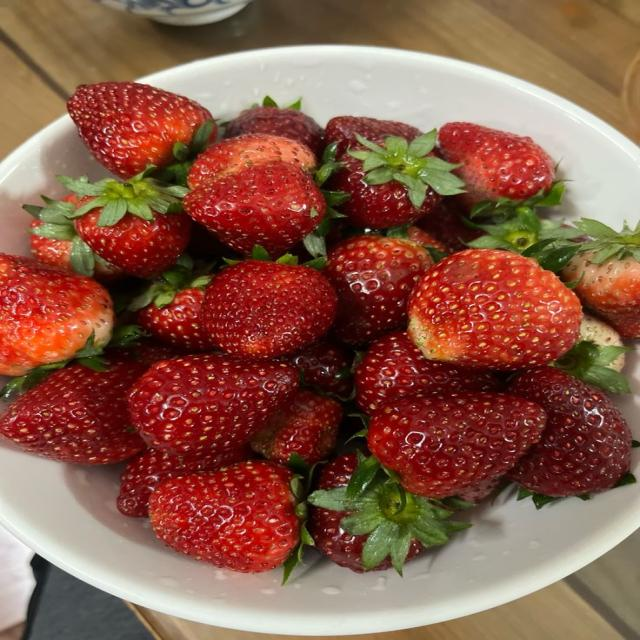strawberry: (408, 249, 582, 370), (308, 452, 469, 574), (367, 391, 546, 498), (128, 355, 298, 456), (149, 461, 299, 572), (0, 352, 146, 464), (507, 367, 631, 496), (67, 82, 217, 178), (0, 254, 113, 375), (184, 161, 326, 257), (61, 175, 191, 278), (327, 130, 463, 228), (201, 260, 336, 358), (323, 234, 433, 345), (354, 332, 499, 414), (117, 445, 253, 517), (439, 122, 553, 206), (561, 219, 639, 338), (24, 194, 123, 281), (130, 255, 216, 351), (187, 133, 317, 188), (251, 389, 342, 465), (225, 97, 324, 155), (307, 507, 392, 572), (137, 286, 216, 351), (281, 340, 353, 397), (415, 198, 481, 252), (326, 116, 421, 153), (580, 313, 623, 348), (406, 226, 452, 257), (457, 477, 503, 504)
